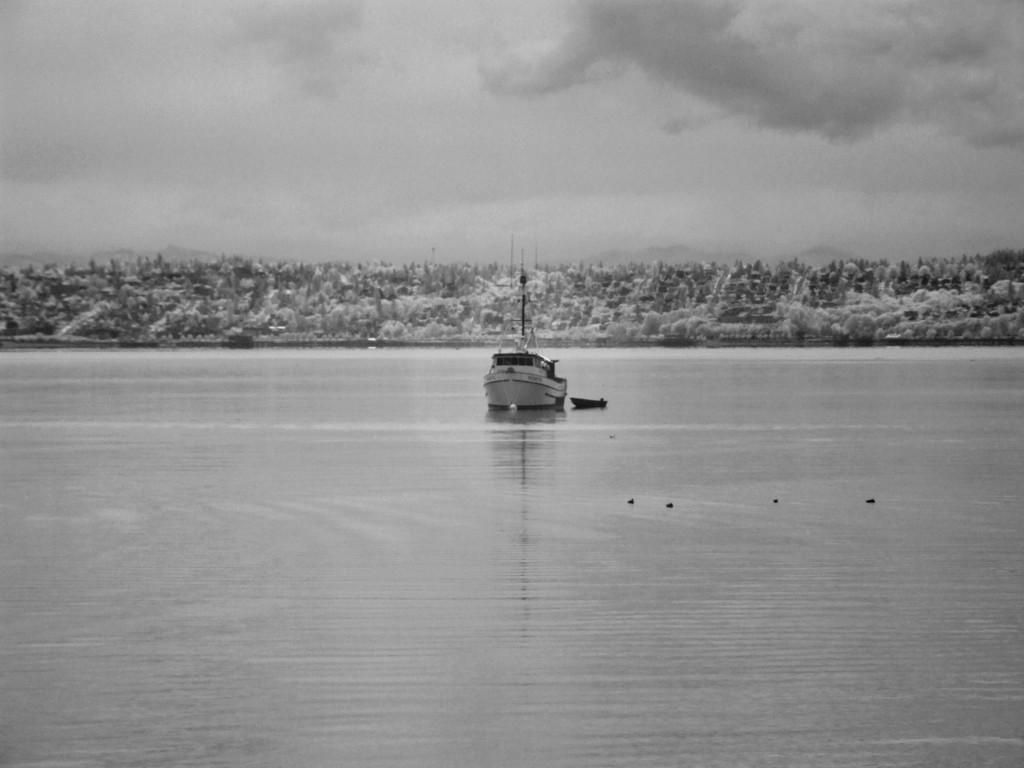PassengerShip: (476, 343, 568, 409)
